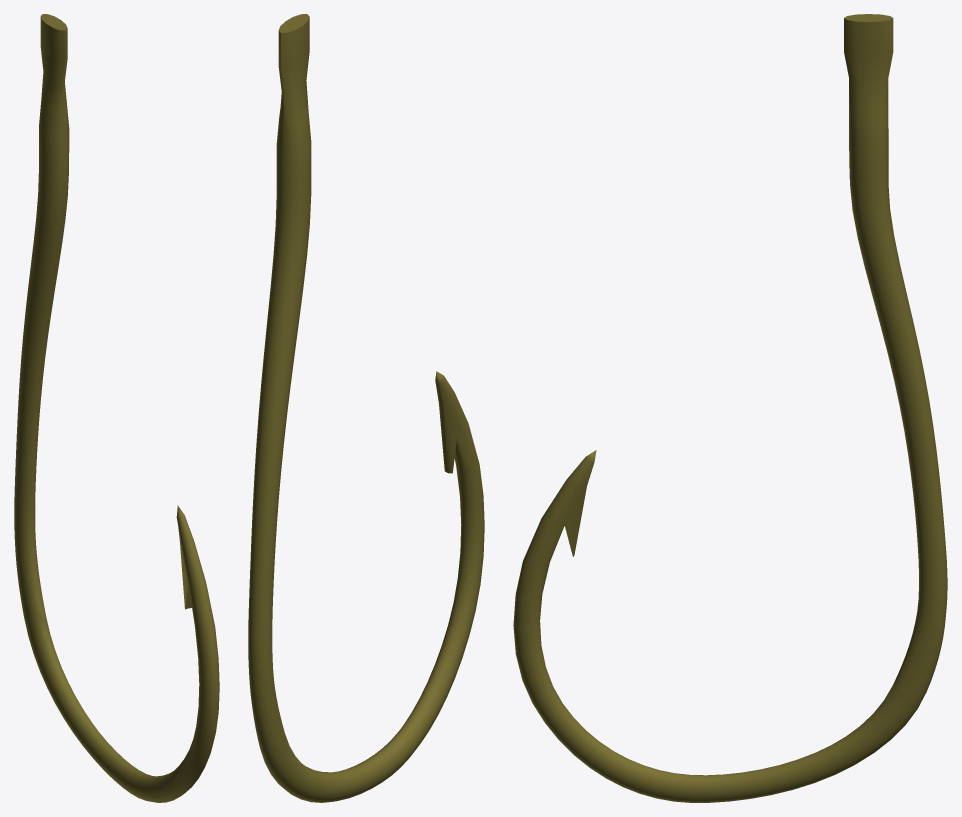
Rendered from haczyk3.fbx.
The picture shows the model from 3 angles, left to right: view 1: azimuth 30°, elevation 25°; view 2: azimuth 150°, elevation 25°; view 3: azimuth 270°, elevation 25°; orthographic projection. The views are drawn at different scales.
Visible parts, largest first — view 1: BezierCurve; view 2: BezierCurve; view 3: BezierCurve.
Boxes of the visible parts, x1,y1,x2,y2 form: BezierCurve: (14,14,219,802); BezierCurve: (248,14,484,802); BezierCurve: (513,14,947,802).
Bounding box in the file's own units: 6.84 × 189 × 94.98.
